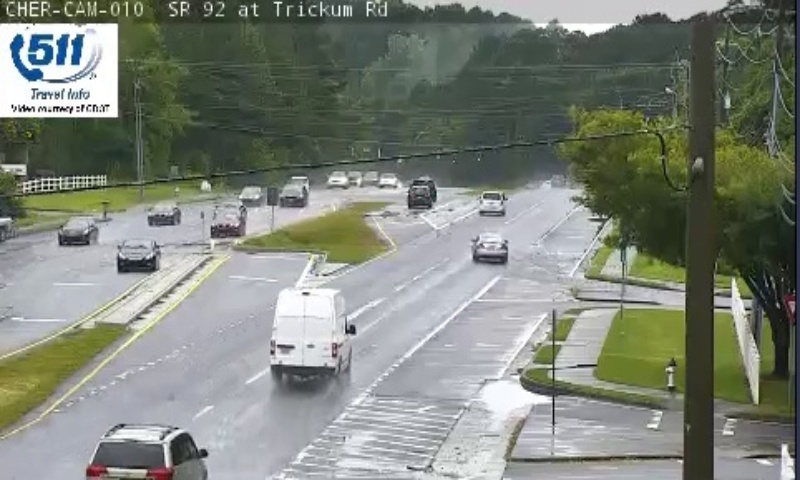car: (86, 427, 209, 480), (473, 234, 507, 261), (478, 191, 502, 214)
van: (272, 288, 351, 377)
